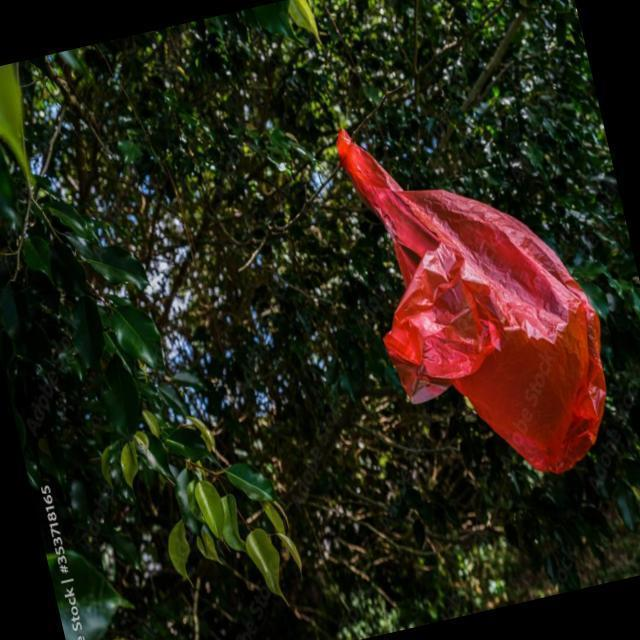Plastic_Bag: (328, 86, 628, 514)
